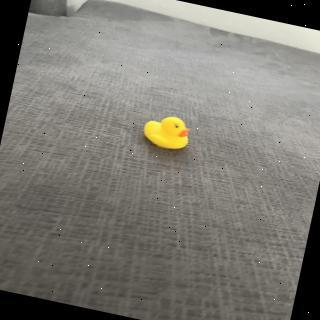duck_regular: (140, 111, 195, 156)
